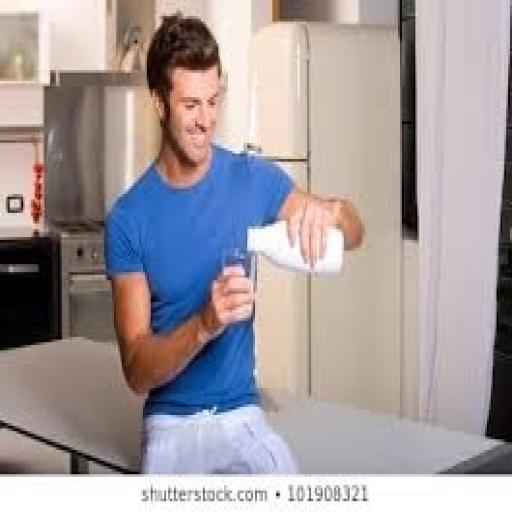drinking: (245, 215, 344, 275)
